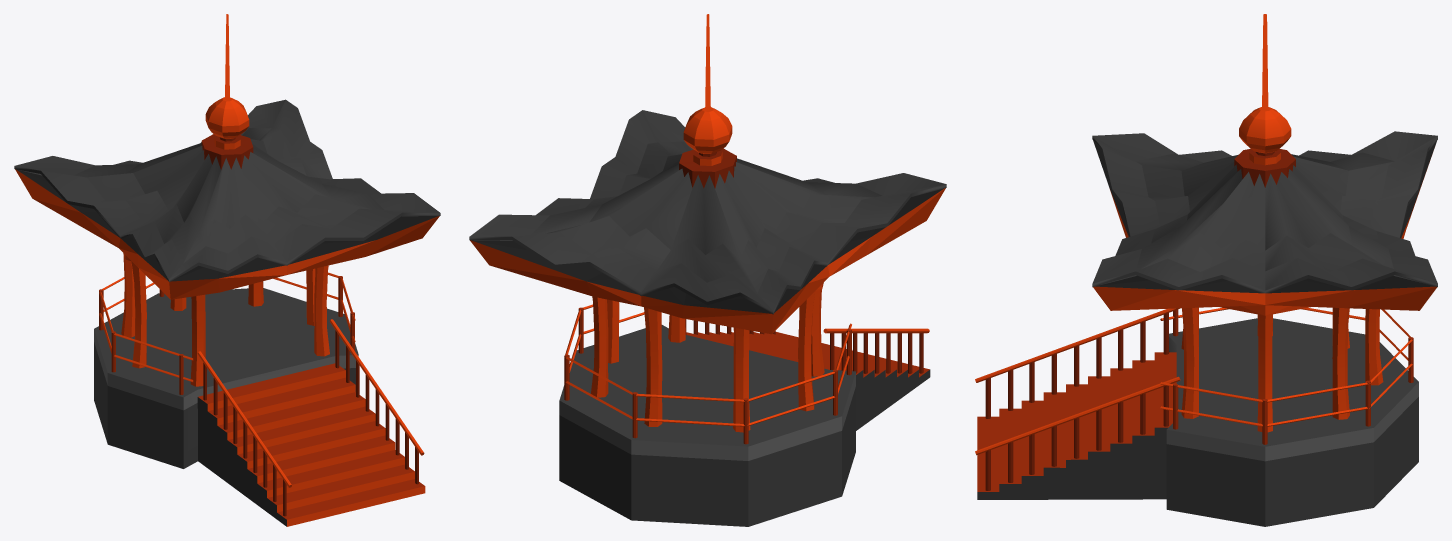
Rendered from mirante.fbx.
3 renders of one model, left to right at view 1: azimuth 30°, elevation 25°; view 2: azimuth 150°, elevation 25°; view 3: azimuth 270°, elevation 25°, orthographic. The views are drawn at different scales.
Visible parts, largest first — view 1: pasted__polySurface2, pasted__pCylinder12, pasted__pCube13, pasted__polySurface3, pasted__pCylinder82, polySurface811, pasted__polySurface4, pasted__pTorus3, polySurface813, polySurface814, pasted__pCylinder78, polySurface815 (+2 smaller); view 2: pasted__pCylinder12, pasted__polySurface2, pasted__polySurface3, pasted__pCube13, polySurface811, pasted__pTorus3, pasted__polySurface4, pasted__pCylinder82, polySurface816, polySurface814, pasted__pCylinder78, polySurface815 (+2 smaller); view 3: pasted__polySurface2, pasted__pCylinder12, pasted__pCube13, pasted__polySurface3, polySurface811, pasted__pCylinder82, pasted__polySurface4, pasted__pTorus3, pasted__pCylinder78, polySurface816, polySurface818, polySurface817.
Part boxes in pixels (x1,y1,x2,y2): pasted__polySurface2: (14, 99, 440, 281); pasted__pCylinder12: (94, 288, 358, 468); pasted__pCube13: (197, 363, 425, 526); pasted__polySurface3: (15, 134, 439, 299); pasted__pCylinder82: (203, 330, 418, 516); polySurface811: (248, 265, 329, 356); pasted__polySurface4: (205, 14, 249, 138); pasted__pTorus3: (99, 272, 355, 382); polySurface813: (190, 294, 205, 386); polySurface814: (131, 261, 146, 368); pasted__pCylinder78: (99, 276, 354, 394); polySurface815: (121, 253, 135, 337); pasted__pCylinder12: (559, 325, 855, 526); pasted__polySurface2: (469, 110, 946, 314); pasted__polySurface3: (470, 148, 945, 334); pasted__pCube13: (686, 332, 930, 430); polySurface811: (591, 296, 685, 397); pasted__pTorus3: (564, 304, 851, 426); pasted__polySurface4: (683, 14, 732, 153); pasted__pCylinder82: (685, 319, 923, 373); polySurface816: (644, 307, 662, 426); polySurface814: (798, 291, 815, 411); pasted__pCylinder78: (564, 307, 851, 444); polySurface815: (733, 327, 750, 432); pasted__polySurface2: (1092, 131, 1437, 293); pasted__pCylinder12: (1166, 318, 1418, 526); pasted__pCube13: (977, 352, 1176, 499); pasted__polySurface3: (1093, 140, 1437, 315); polySurface811: (1181, 307, 1349, 432); pasted__pCylinder82: (985, 313, 1168, 490); pasted__polySurface4: (1239, 14, 1291, 153); pasted__pTorus3: (1160, 307, 1412, 426); pasted__pCylinder78: (1173, 309, 1413, 444); polySurface816: (1365, 309, 1383, 385); polySurface818: (975, 376, 1180, 455); polySurface817: (975, 308, 1179, 382).
Size of the model in its own units: 5.38 by 7.6 by 7.11.
